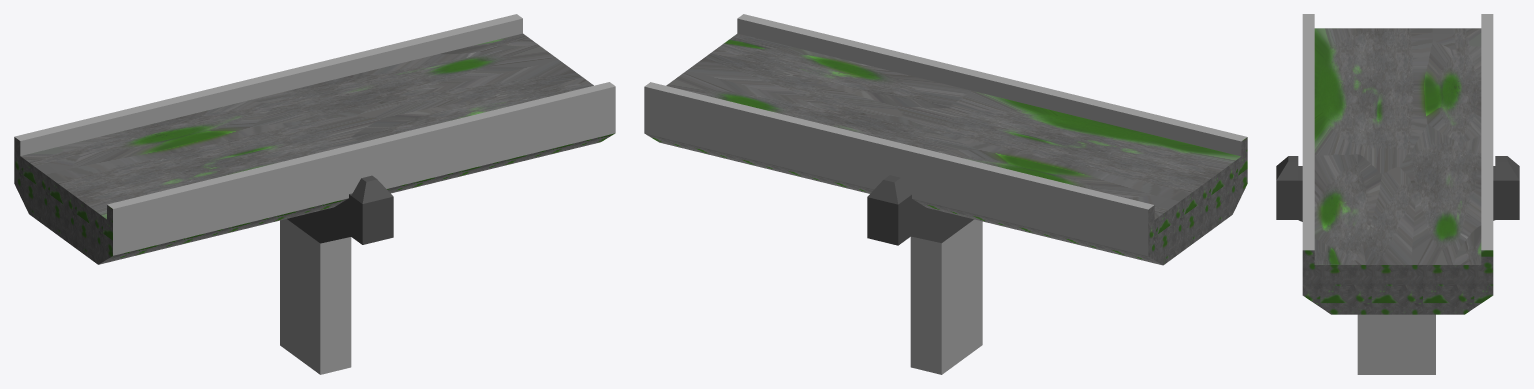
File: bridge_part.fbx
3 renders of one model, left to right at view 1: azimuth 30°, elevation 25°; view 2: azimuth 150°, elevation 25°; view 3: azimuth 270°, elevation 25°, orthographic. The views are drawn at different scales.
Visible parts, largest first — view 1: bridge; view 2: bridge; view 3: bridge.
Boxes of the visible parts, <box> form: bridge: <box>14,14,615,374</box>; bridge: <box>644,14,1247,374</box>; bridge: <box>1276,14,1519,374</box>.
Bounding box in the file's own units: 19555 × 9083 × 8502.
Materials: 5 (1 with a texture image).
